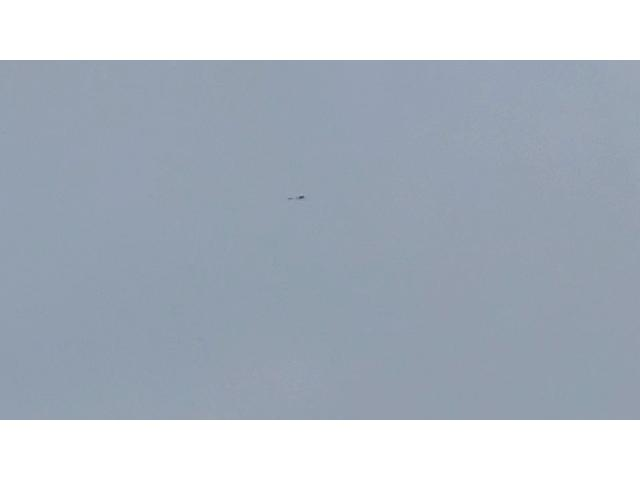Anti-Drone: (286, 194, 310, 202)
